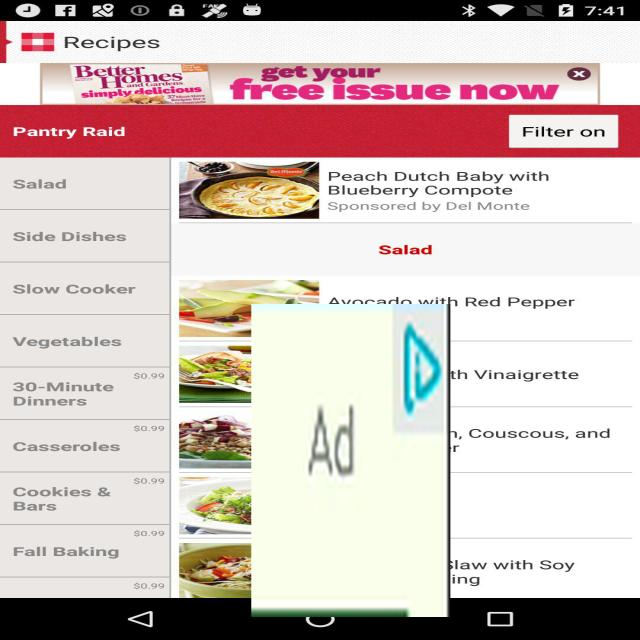sneaking: (252, 304, 450, 617)
